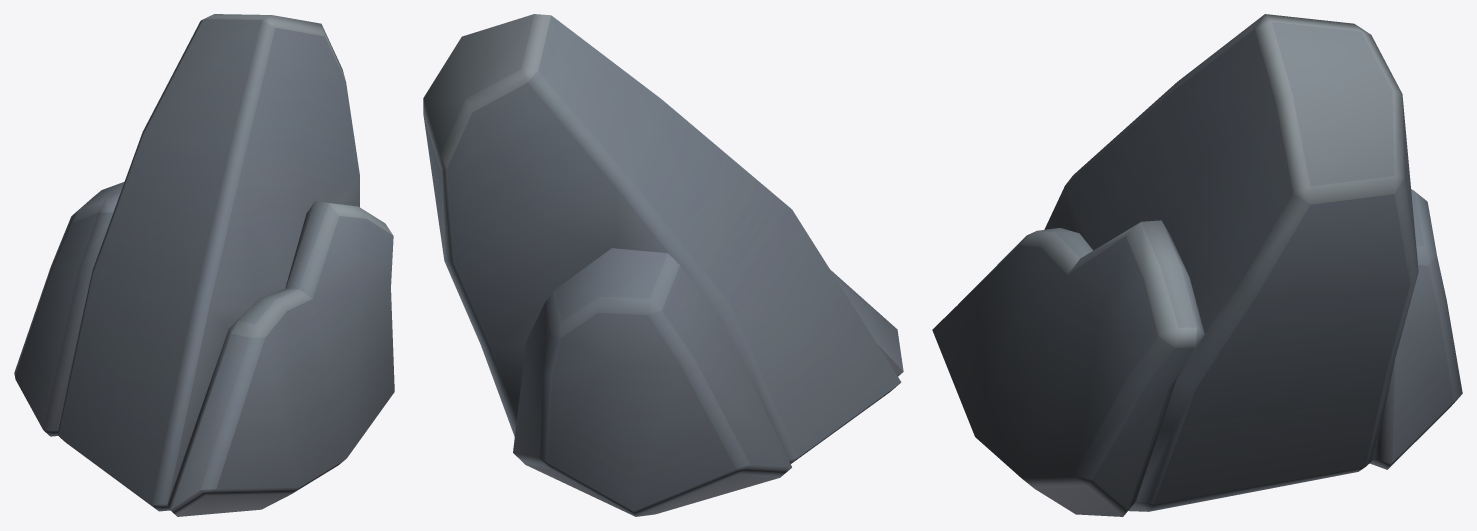
The model's file is rock_013.fbx.
3 views of the same model, side by side, from view 1: azimuth 30°, elevation 25°; view 2: azimuth 150°, elevation 25°; view 3: azimuth 270°, elevation 25° (orthographic). The views are drawn at different scales.
Visible parts, largest first — view 1: rock_013; view 2: rock_013; view 3: rock_013.
Part boxes in pixels (<box>): rock_013: <box>14,14,394,516</box>; rock_013: <box>423,14,903,516</box>; rock_013: <box>932,14,1462,516</box>.
Bounding box in the file's own units: 262 × 317 × 295.
